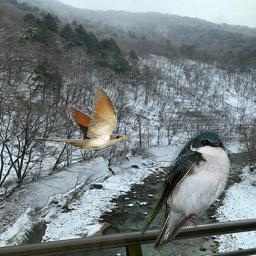Cuckoo: (35, 85, 128, 150)
Swallow: (140, 127, 234, 251)
